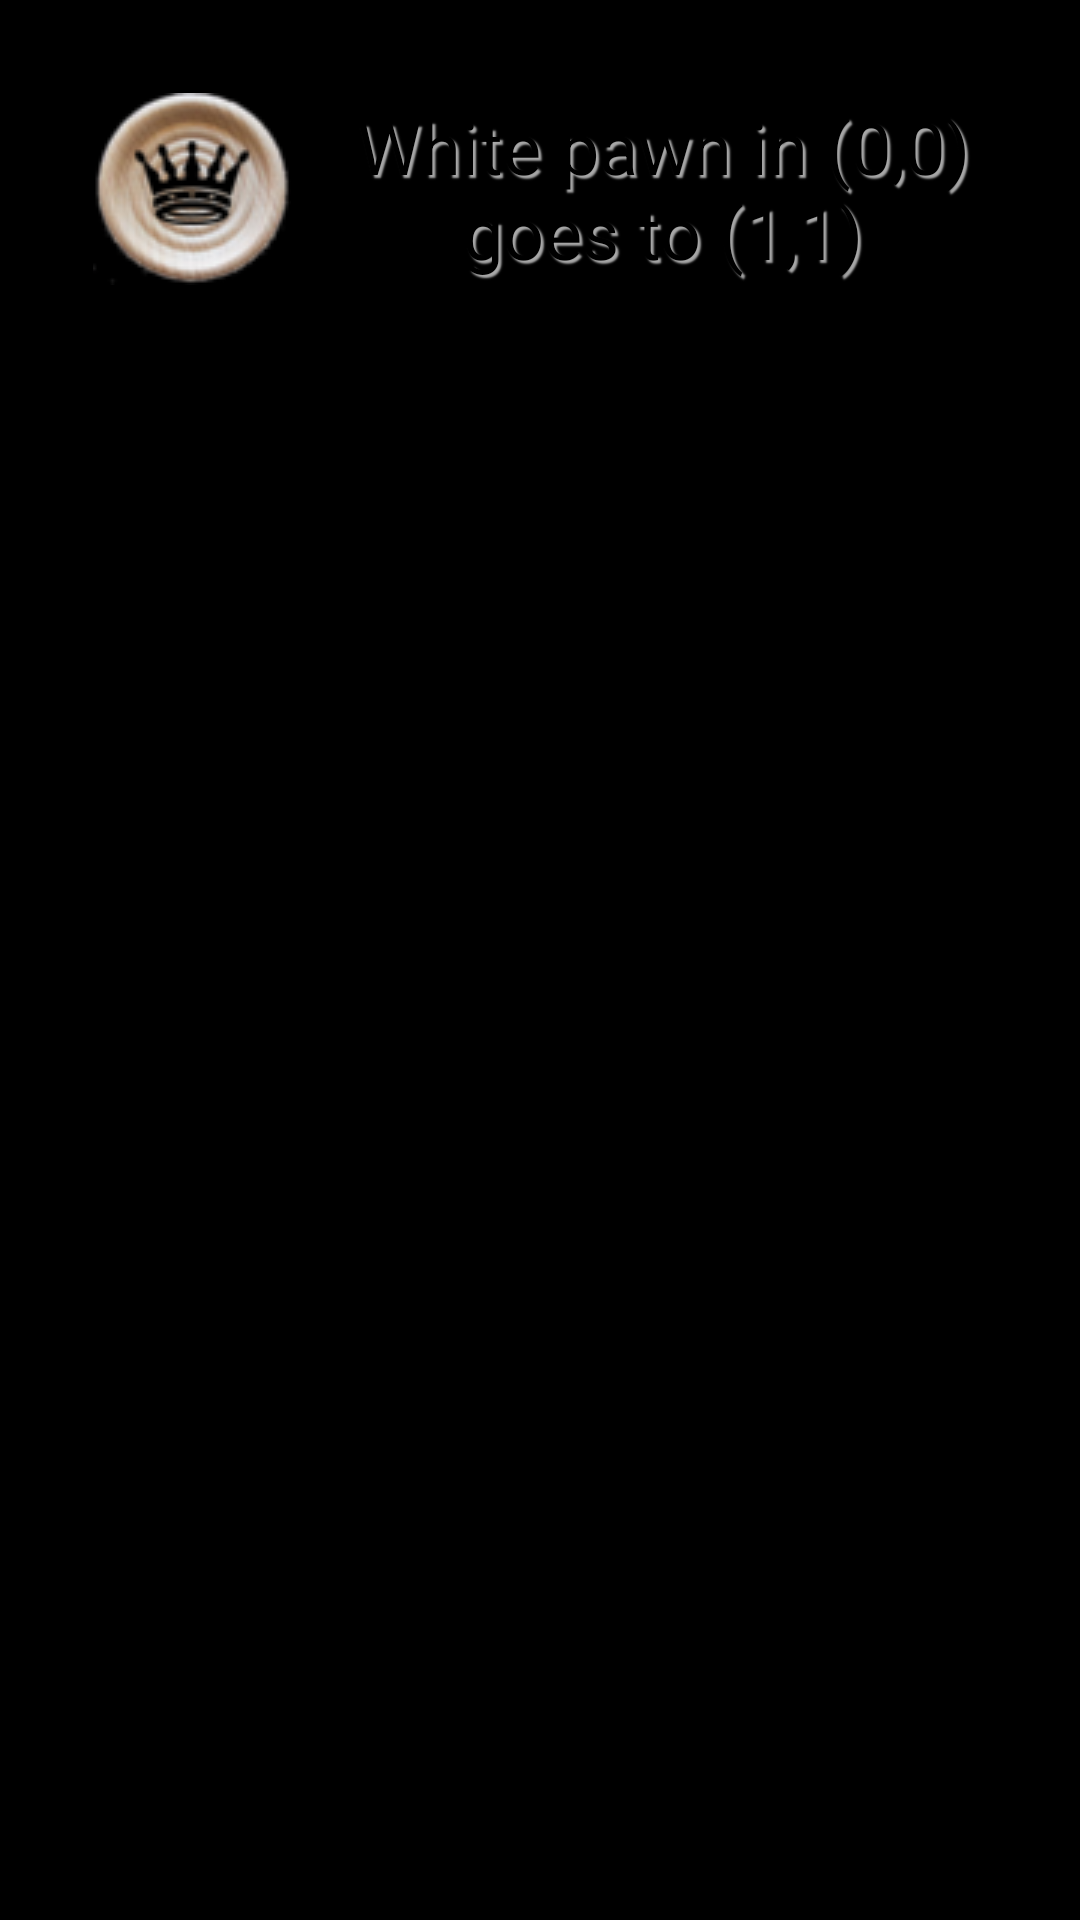

Screen size 1080x1920. Icon name, then its center in pixels as (x=x, y=y):
dama: (x=192, y=188)
